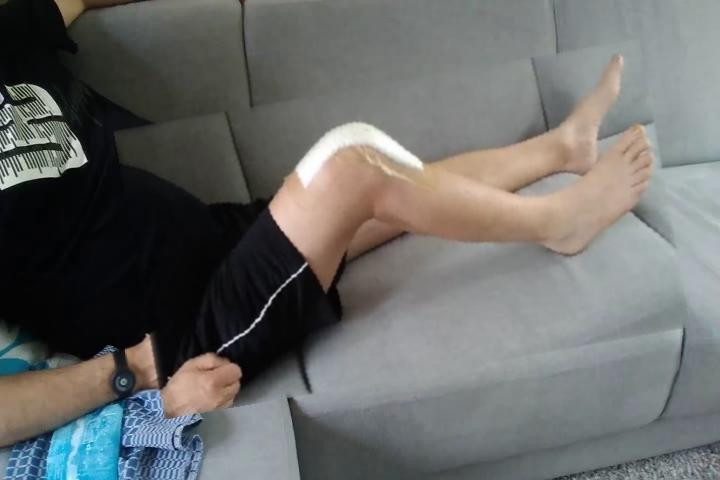lower_body: (126, 61, 680, 398)
